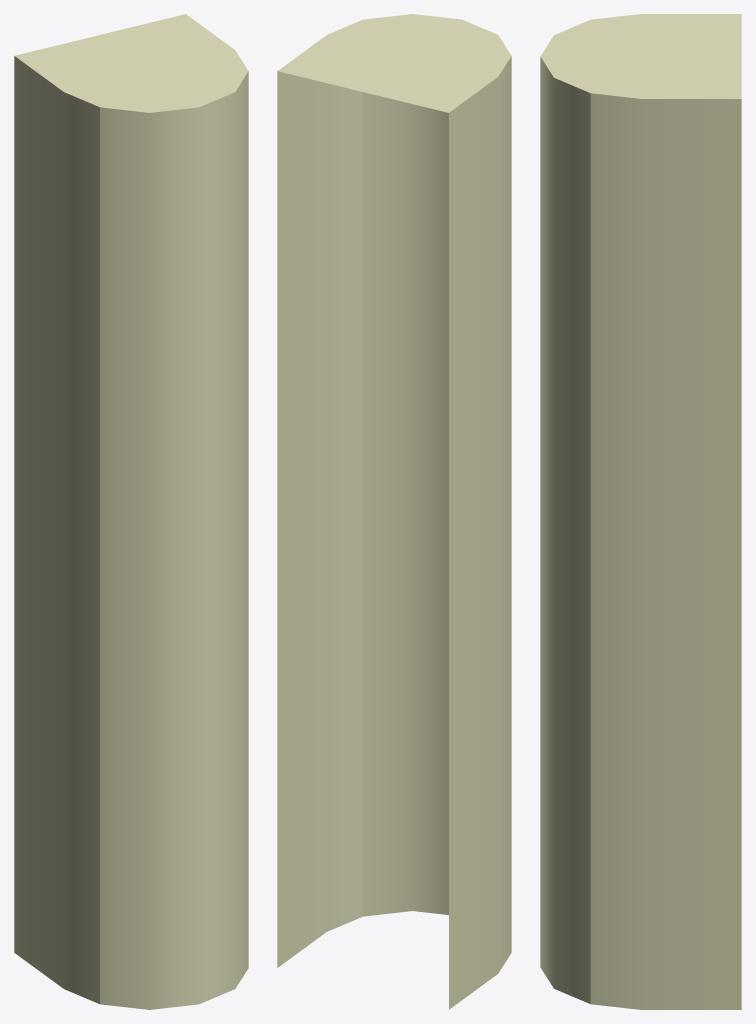
Rendered from Model_MuurPilar.fbx.
The picture shows the model from 3 angles, left to right: view 1: azimuth 30°, elevation 25°; view 2: azimuth 150°, elevation 25°; view 3: azimuth 270°, elevation 25°; orthographic projection.
Parts seen in each view (by area): view 1: Model_Arena_Muur_pilaar; view 2: Model_Arena_Muur_pilaar; view 3: Model_Arena_Muur_pilaar.
Part boxes in pixels (<box>): Model_Arena_Muur_pilaar: <box>14,14,248,1009</box>; Model_Arena_Muur_pilaar: <box>277,14,511,1009</box>; Model_Arena_Muur_pilaar: <box>540,14,741,1009</box>.
Bounding box in the file's own units: 0.75 × 3.75 × 0.75.
